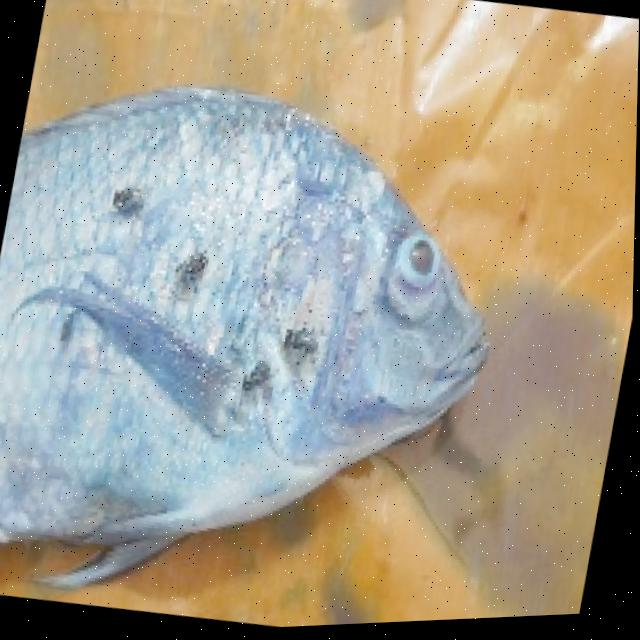Non-Fresh: (0, 82, 553, 611), (373, 231, 461, 336)
